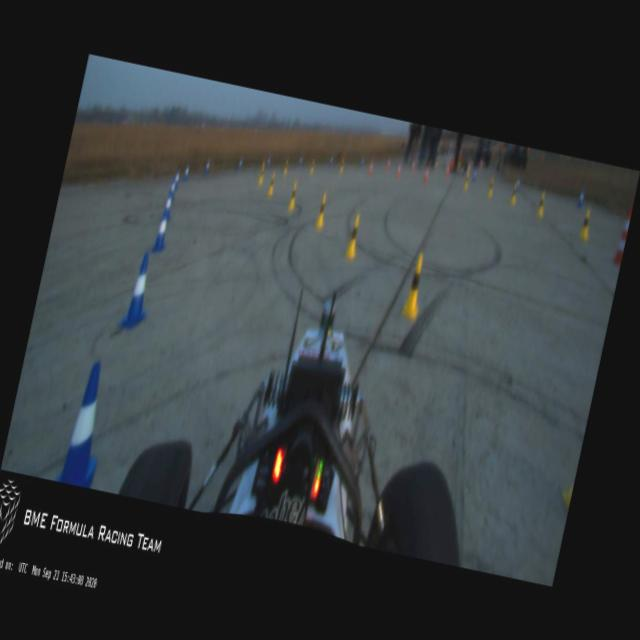blue_cone: (54, 357, 116, 488), (116, 250, 160, 331), (150, 209, 172, 255), (160, 188, 176, 220), (167, 176, 177, 200), (576, 191, 584, 209), (182, 163, 190, 180), (174, 168, 180, 182), (515, 177, 521, 190), (204, 161, 210, 173), (472, 168, 477, 182), (298, 156, 302, 167), (266, 156, 270, 166), (360, 156, 364, 166), (238, 160, 242, 168), (328, 156, 332, 164)
large_orange_cone: (609, 206, 631, 268)
orange_cone: (395, 162, 402, 178), (423, 166, 430, 182), (386, 157, 392, 170), (410, 160, 416, 173), (368, 160, 373, 174), (445, 164, 450, 177)
yellow_cone: (400, 253, 429, 320), (342, 212, 363, 260), (314, 192, 329, 229), (578, 207, 593, 241), (286, 180, 299, 212), (534, 191, 548, 219), (266, 172, 277, 196), (509, 183, 519, 206), (256, 166, 266, 186), (486, 177, 494, 196), (308, 158, 316, 174), (463, 174, 470, 190), (282, 160, 288, 174), (338, 159, 344, 172), (259, 162, 264, 175)
